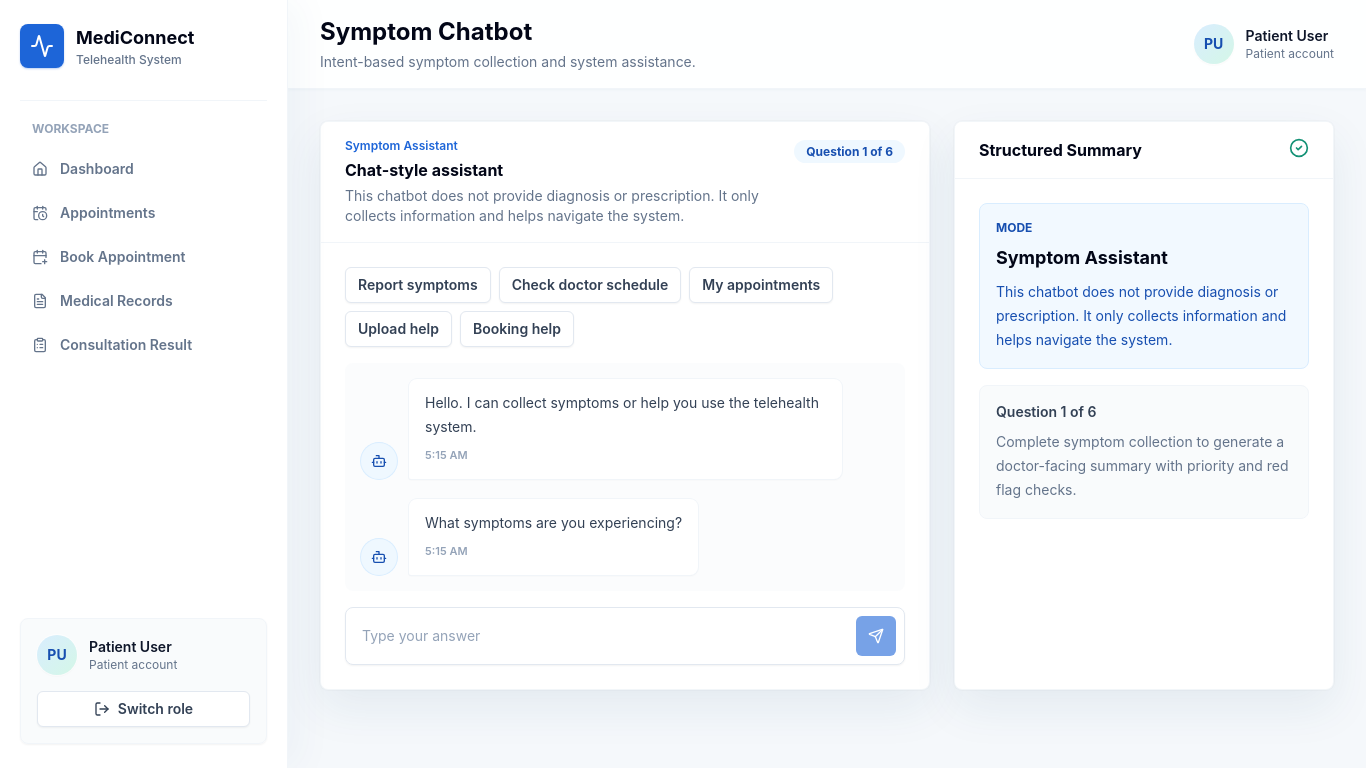
Telehealth frontend routes › adds fever follow-up questions during symptom collection
The width and height of the screenshot is (1366, 768).
Type "Fever" into the field with placeholder "Type your answer" at (599, 636), box [354,616,844,656]
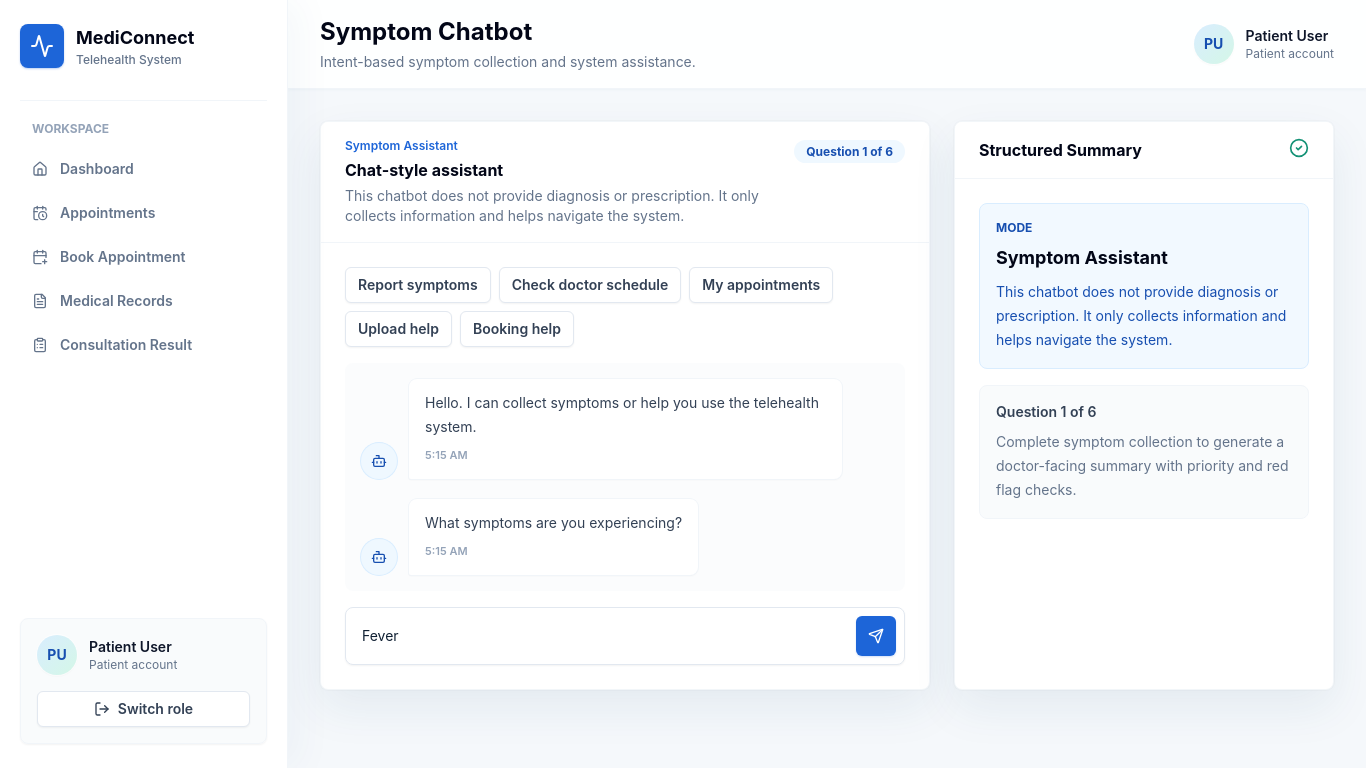
Click the button named "send answer" at (876, 636), box [856,616,896,656]
(page scrolled)
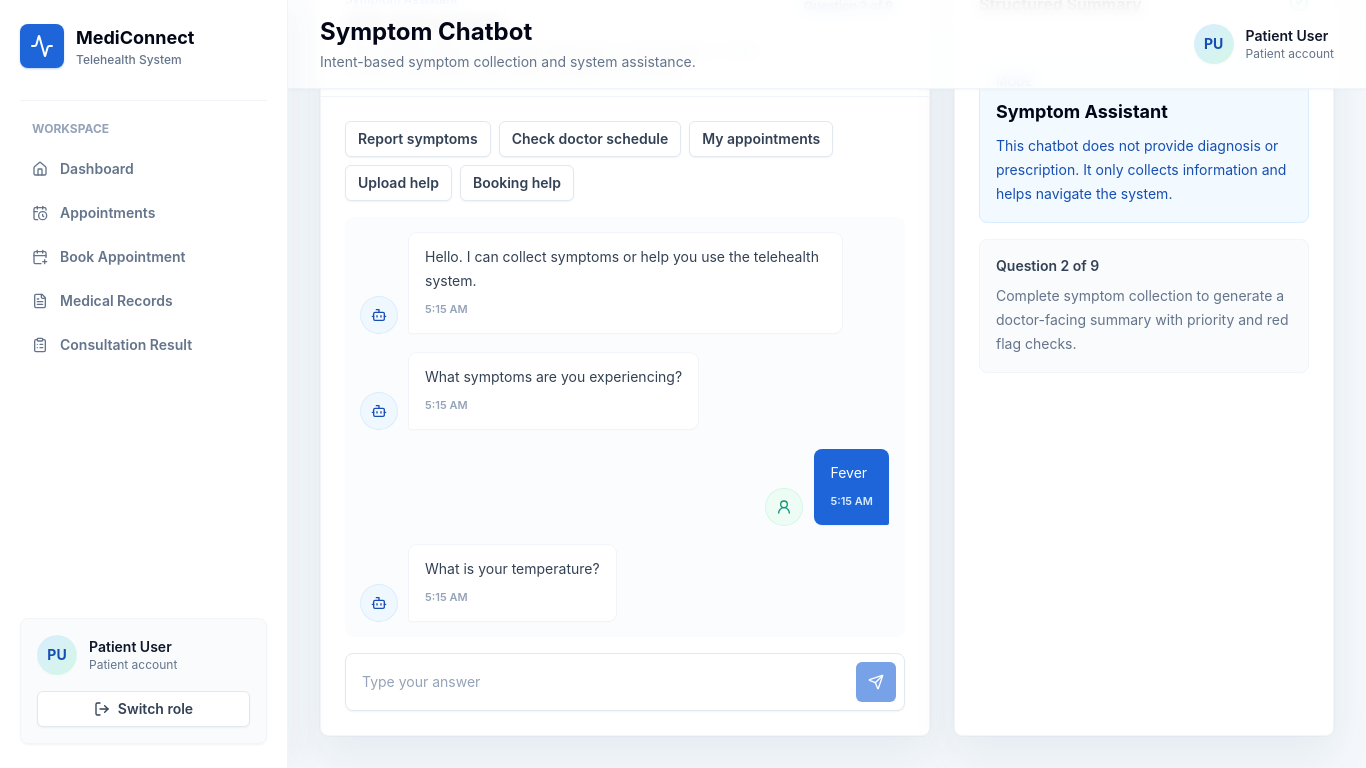
Result: the text "What is your temperature?" is shown at [425,557,600,581]
Type "38.5 C" into the field with placeholder "Type your answer" at (599, 682), box [354,662,844,702]
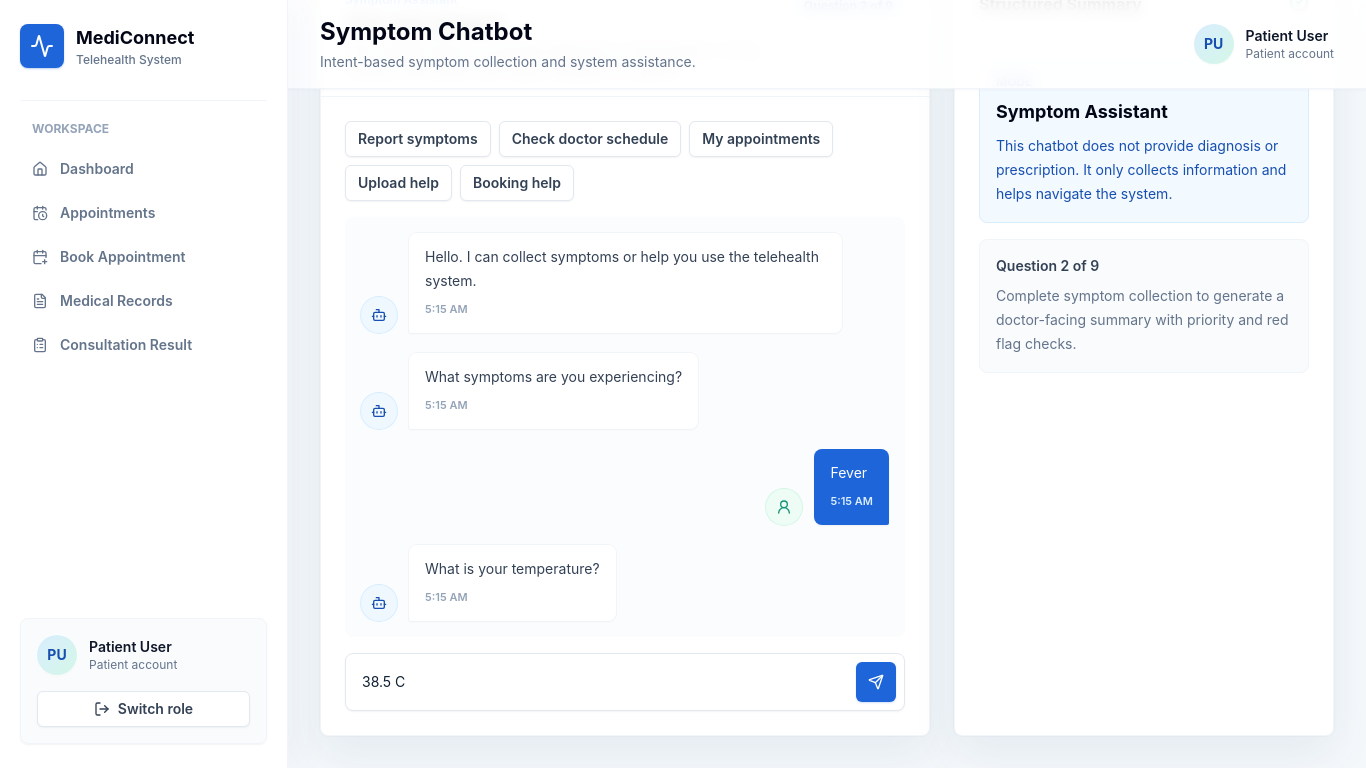
Click the button named "send answer" at (876, 682), box [856,662,896,702]
(page scrolled)
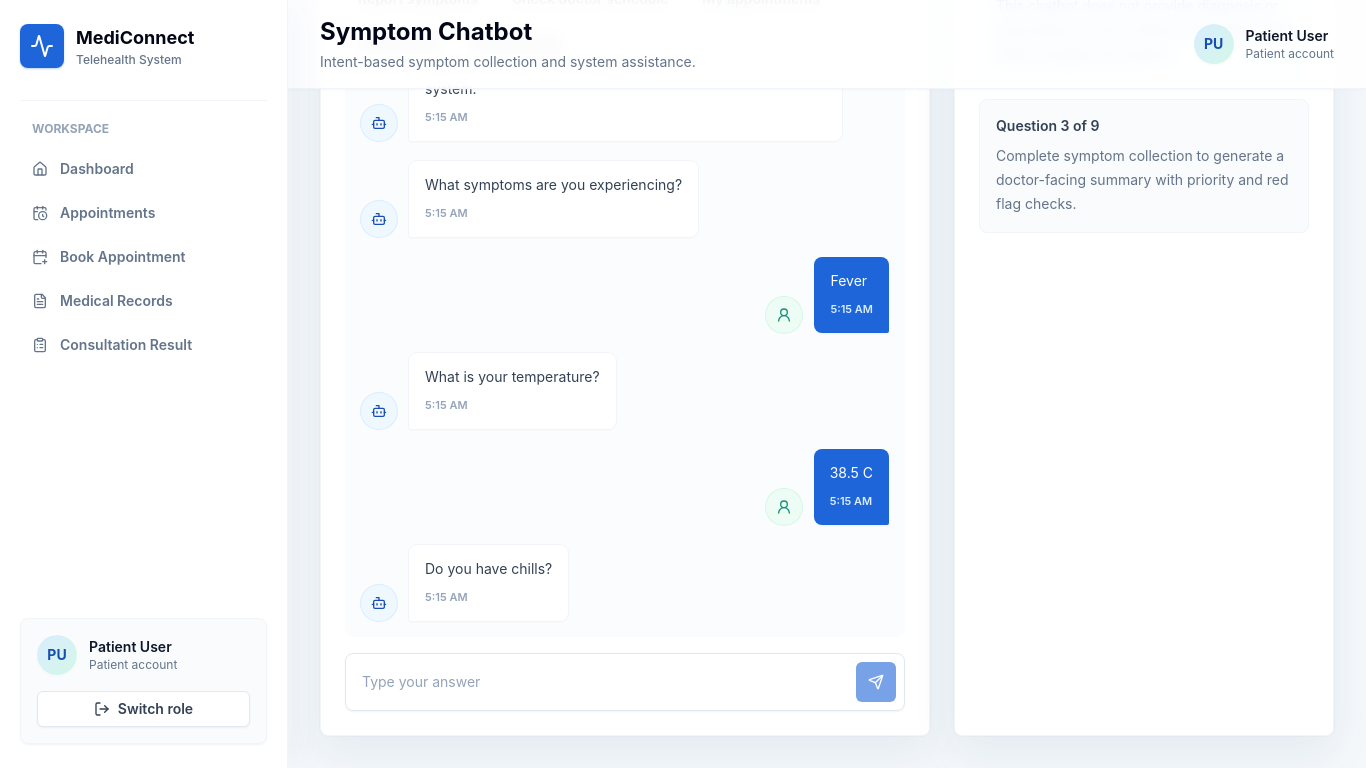
Result: the text "Do you have chills?" is shown at [425,557,552,581]
